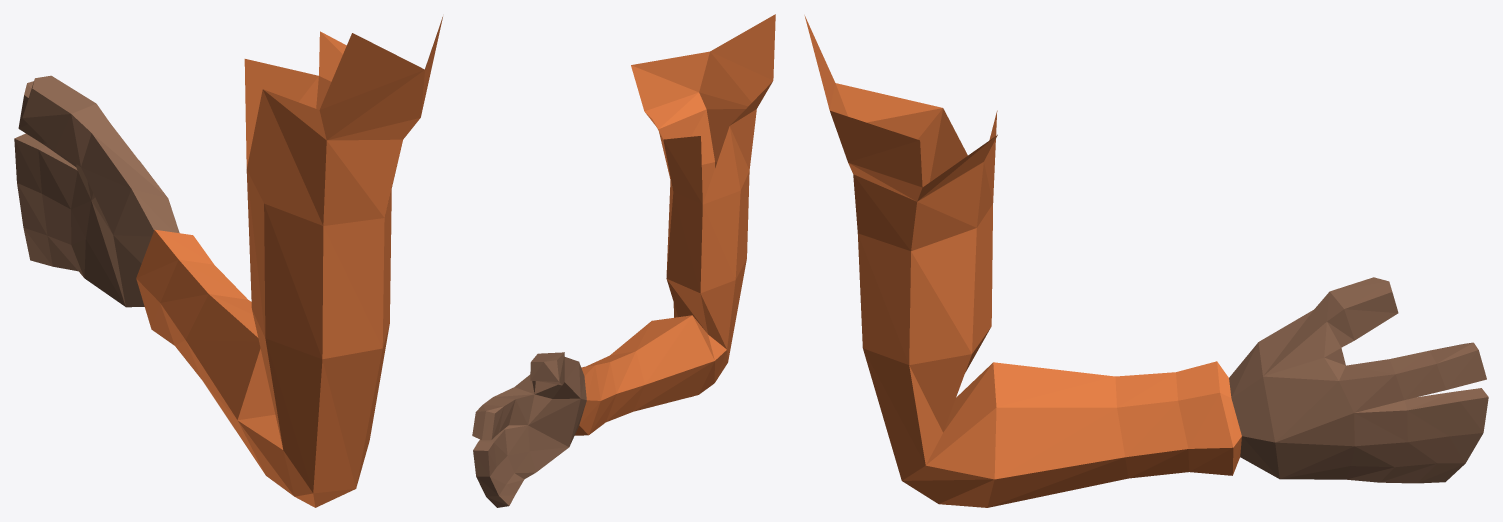
File: Son_01_ArmR_96_04_C.obj
3 renders of one model, left to right at view 1: azimuth 30°, elevation 25°; view 2: azimuth 150°, elevation 25°; view 3: azimuth 270°, elevation 25°, orthographic. The views are drawn at different scales.
Visible parts, largest first — view 1: Son_01_ArmR_96_04_C; view 2: Son_01_ArmR_96_04_C; view 3: Son_01_ArmR_96_04_C.
Boxes of the visible parts, box(x1,y1,x2,y2) form: Son_01_ArmR_96_04_C: box(14, 17, 442, 507); Son_01_ArmR_96_04_C: box(472, 14, 775, 507); Son_01_ArmR_96_04_C: box(804, 15, 1488, 507).
Bounding box in the file's own units: 0.1573 × 0.469 × 0.6171.
1 material, 1 textured.
